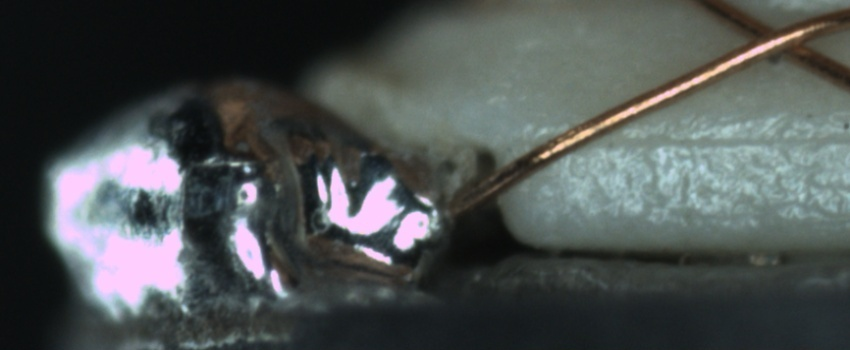CL: (712, 2, 839, 72)
DL: (562, 108, 848, 171)
